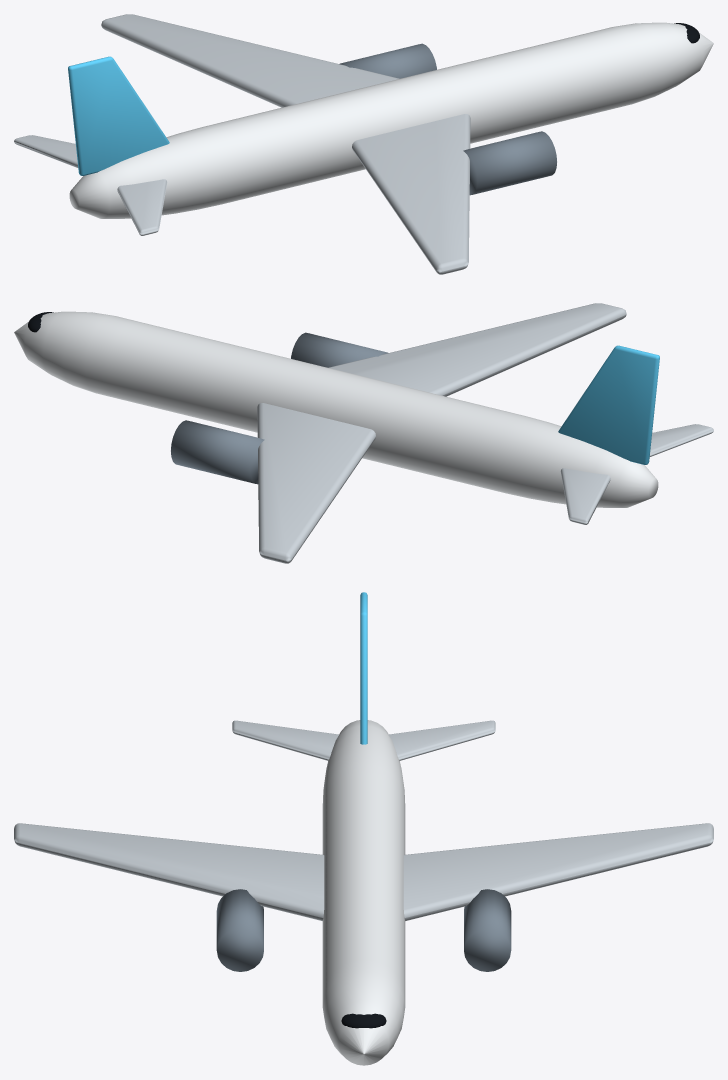
Rendered from airliner_civ.glb.
3 renders of one model, top to bottom at view 1: azimuth 30°, elevation 25°; view 2: azimuth 150°, elevation 25°; view 3: azimuth 270°, elevation 25°, orthographic. The views are drawn at different scales.
Parts seen in each view (by area): view 1: fus, wing, fin, eng1, stab, eng-1; view 2: fus, wing, fin, eng-1, stab, eng1; view 3: wing, fus, stab, eng1, eng-1, fin.
Boxes of the visible parts, box(x1,y1,x2,y2) form: fus: box(69, 22, 713, 218); wing: box(101, 14, 470, 274); fin: box(68, 56, 169, 175); eng1: box(463, 131, 556, 195); stab: box(14, 135, 167, 235); eng-1: box(339, 43, 436, 78); fus: box(14, 311, 658, 507); wing: box(257, 303, 626, 563); fin: box(558, 345, 659, 464); eng-1: box(171, 420, 264, 484); stab: box(560, 424, 713, 524); eng1: box(291, 332, 388, 367); wing: box(14, 823, 713, 920); fus: box(322, 720, 405, 1065); stab: box(232, 720, 495, 760); eng1: box(216, 889, 263, 971); eng-1: box(464, 889, 511, 971); fin: box(360, 592, 367, 744).
Bounding box in the file's own units: 37.34 × 9.4 × 34.
